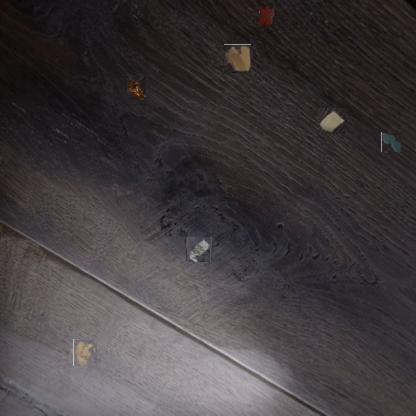dirty: (223, 44, 251, 73), (318, 107, 344, 135), (187, 237, 212, 262), (71, 340, 96, 365), (127, 76, 148, 100)
liquid: (381, 132, 402, 152), (258, 5, 276, 27)
